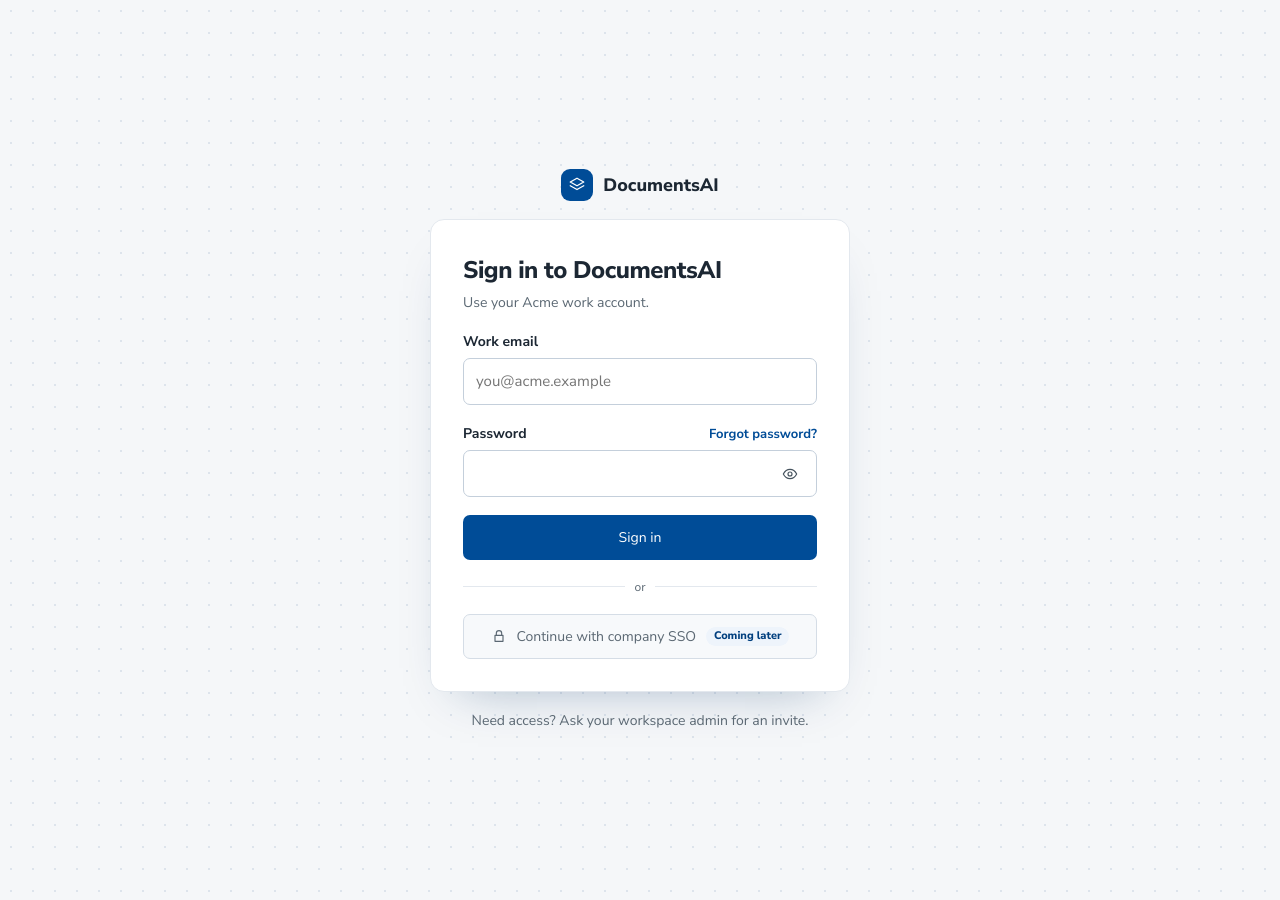
Test: LoginPage › shows the error when Enter is pressed with empty fields
Click the field labelled "Work email" at (640, 382), box [476, 359, 804, 404]
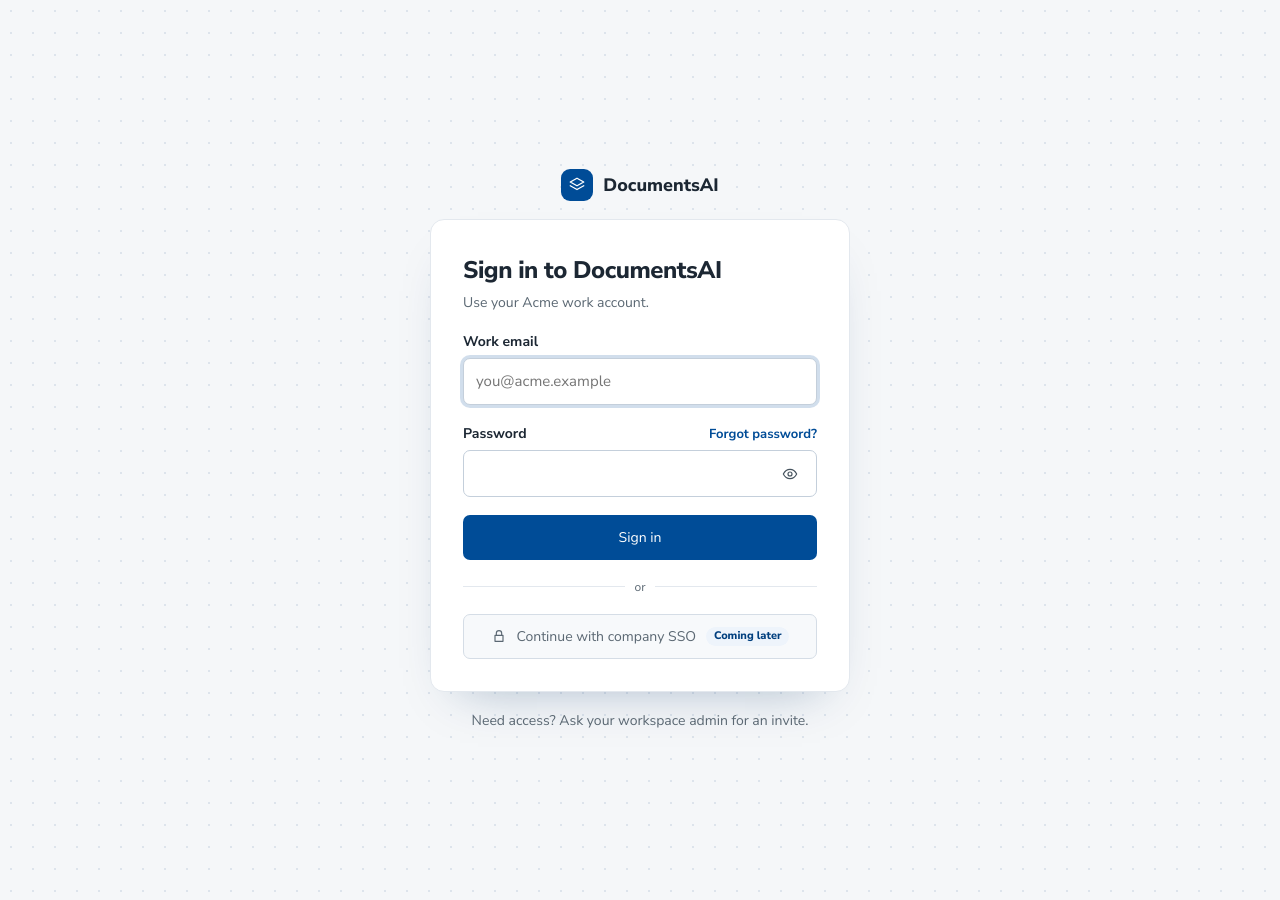
Press Enter
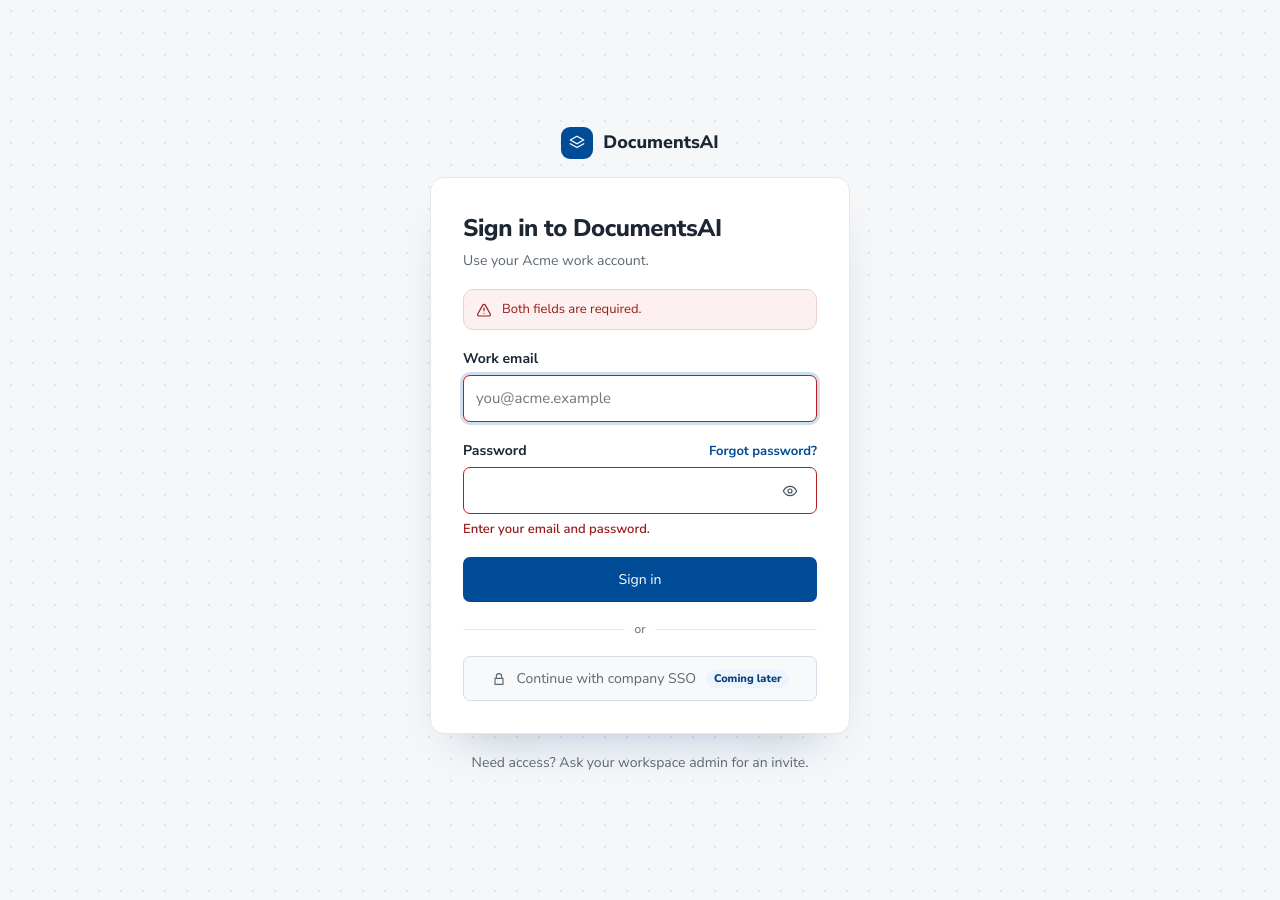
Check: the message reads "Both fields are required.", box [502, 300, 642, 318]
